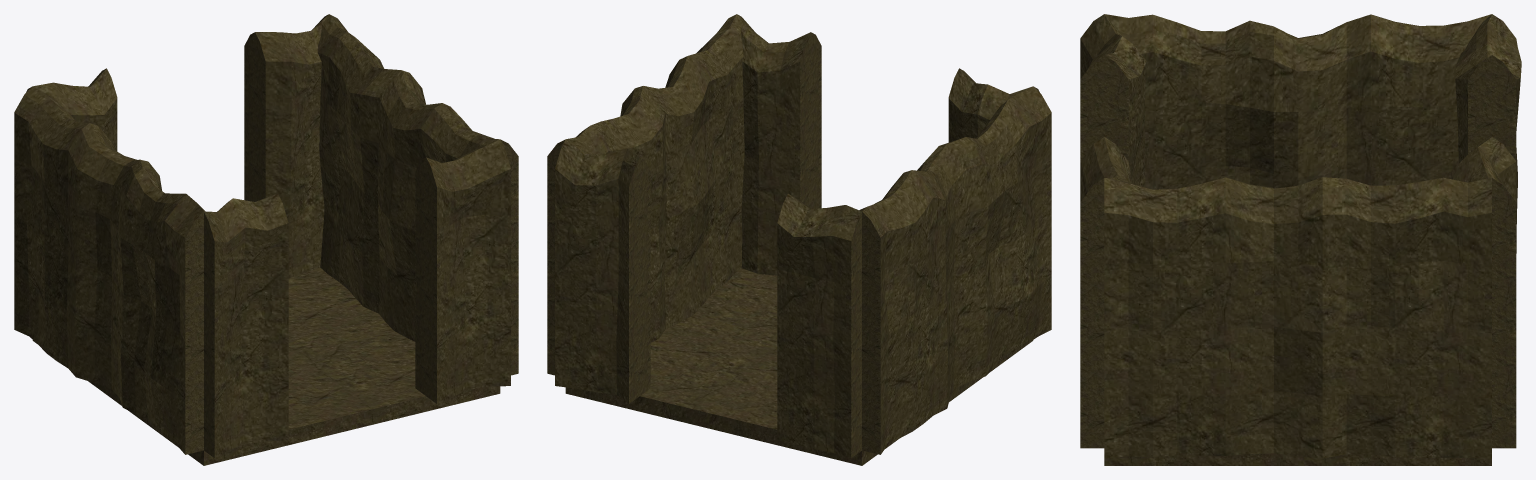
File: cave_room_01_limestone.glb
The picture shows the model from 3 angles, left to right: view 1: azimuth 30°, elevation 25°; view 2: azimuth 150°, elevation 25°; view 3: azimuth 270°, elevation 25°; orthographic projection. The views are drawn at different scales.
Parts seen in each view (by area): view 1: cave_room_01_limestone; view 2: cave_room_01_limestone; view 3: cave_room_01_limestone.
Boxes of the visible parts, bbox=[...] form: cave_room_01_limestone: bbox=[14, 14, 518, 465]; cave_room_01_limestone: bbox=[547, 14, 1051, 465]; cave_room_01_limestone: bbox=[1080, 14, 1521, 465].
Size of the model in its own units: 4.58 by 3.3 by 4.56.
Materials: 2 (2 with a texture image).
